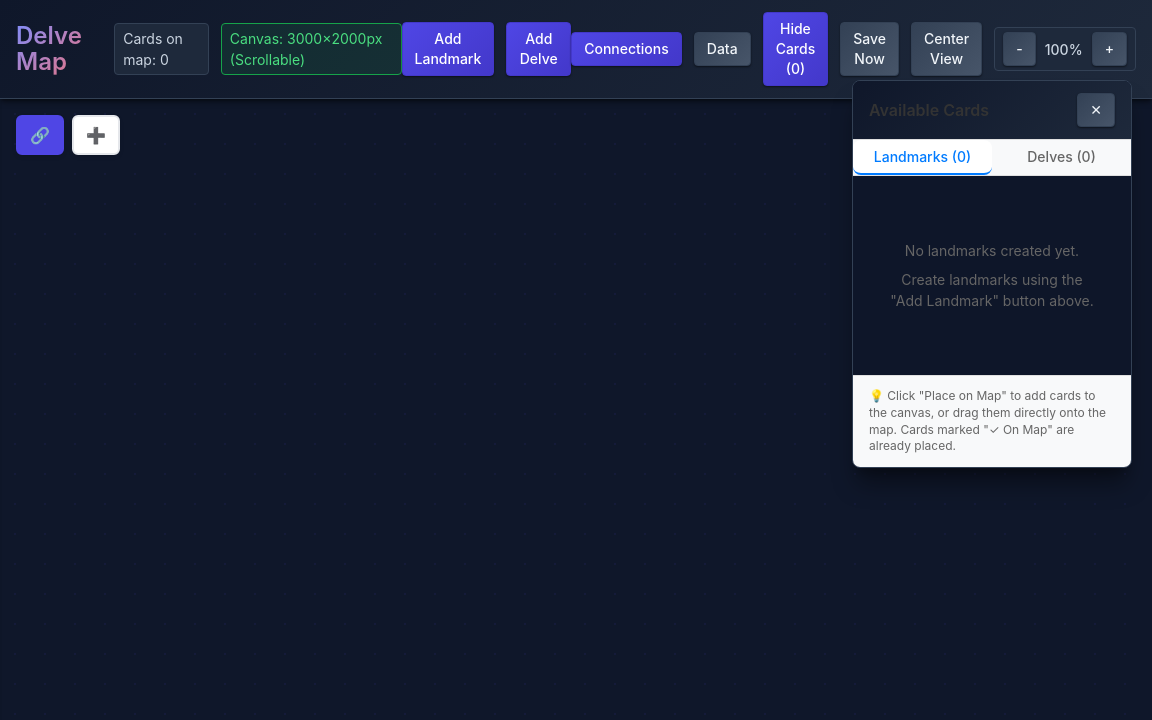
Test case: DelveMapPage › opens delve form when Add Delve button is clicked
Click the button "Add Delve" at (539, 49), box [506, 22, 571, 76]
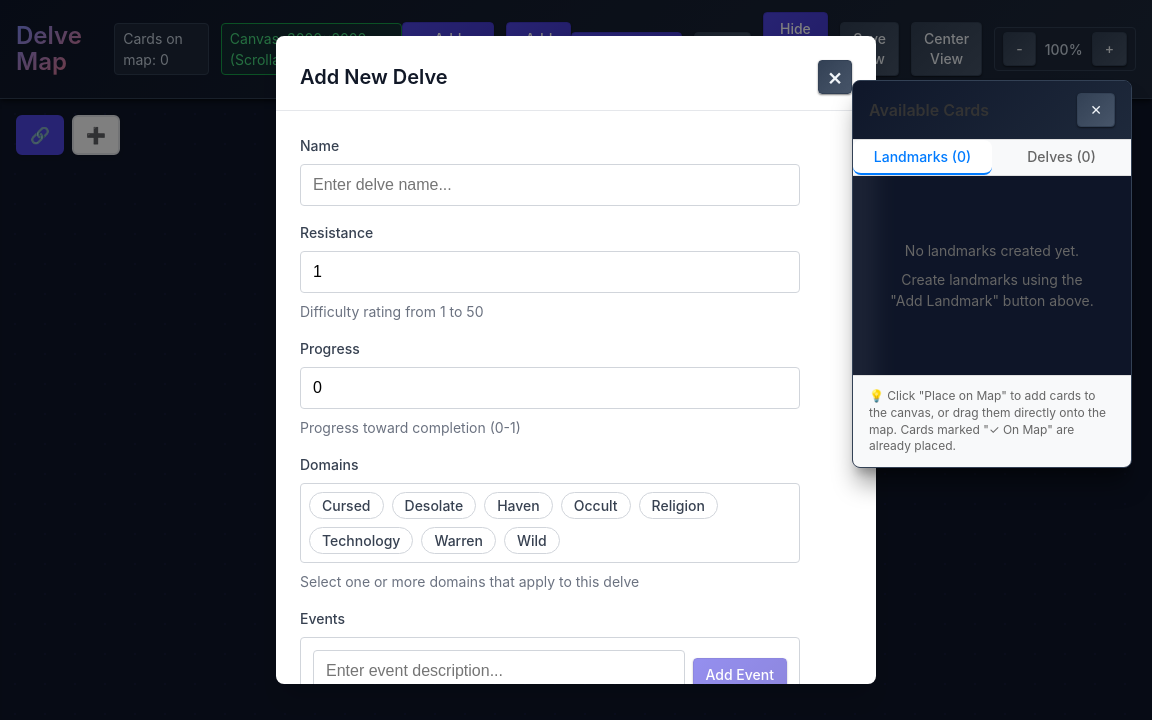
Expected: the heading "Add New Delve" is shown, [300, 62, 448, 92]
